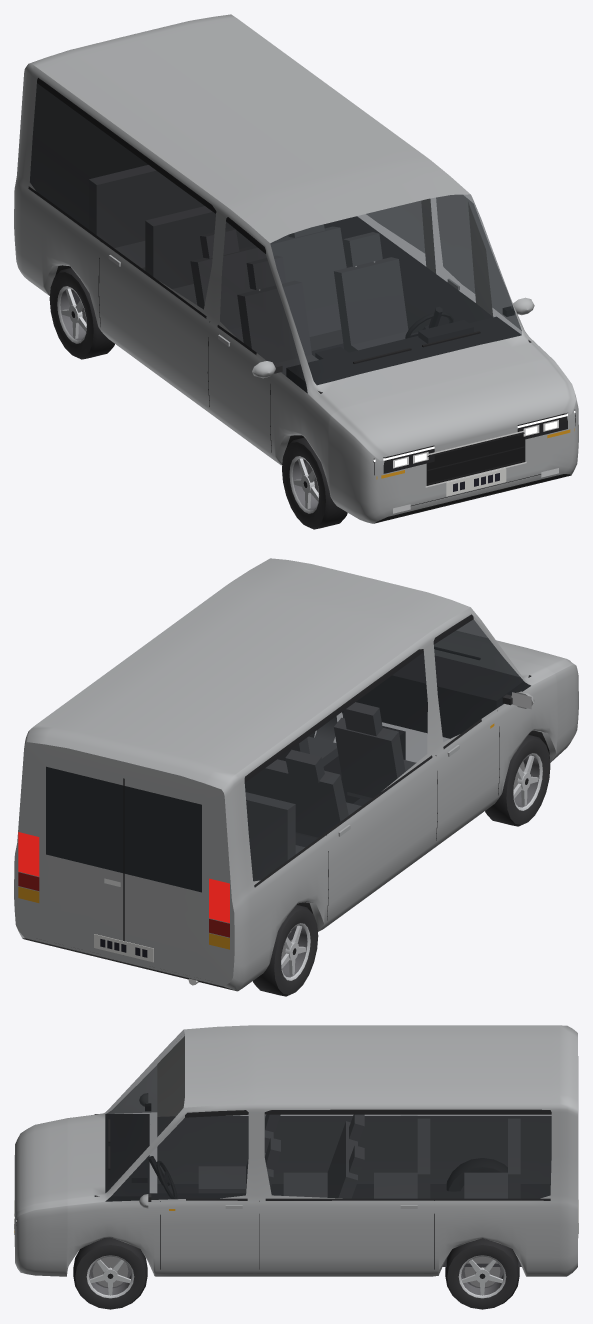
File: van_minibus.glb
The picture shows the model from 3 angles, top to bottom: view 1: azimuth 30°, elevation 25°; view 2: azimuth 150°, elevation 25°; view 3: azimuth 270°, elevation 25°; orthographic projection. The views are drawn at different scales.
Parts seen in each view (by area): view 1: van_minibus_body, Wheel_FR, Wheel_RR; view 2: van_minibus_body, Wheel_FR, Wheel_RR; view 3: van_minibus_body, Wheel_FL, Wheel_RL, Wheel_RR.
Part boxes in pixels (x1,y1,x2,y2): van_minibus_body: (14, 14, 578, 523); Wheel_FR: (282, 437, 347, 529); Wheel_RR: (49, 268, 114, 359); van_minibus_body: (14, 558, 578, 991); Wheel_FR: (485, 734, 550, 826); Wheel_RR: (253, 905, 318, 996); van_minibus_body: (14, 1025, 578, 1276); Wheel_FL: (73, 1237, 147, 1309); Wheel_RL: (445, 1238, 519, 1309); Wheel_RR: (446, 1158, 507, 1191).
Size of the model in its own units: 0.1225 by 0.1066 by 0.2658.
8 materials, 1 textured.
